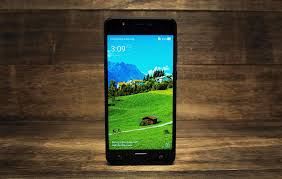asus: (101, 16, 176, 167)
